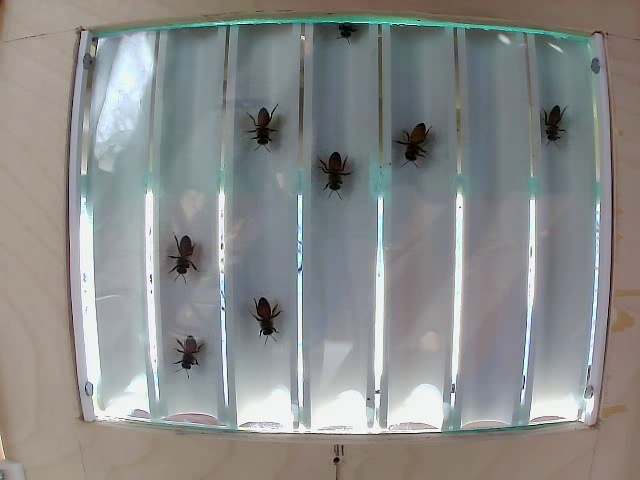bee: (239, 290, 287, 349), (395, 119, 440, 180), (533, 96, 580, 149), (241, 99, 289, 150), (318, 150, 360, 204), (164, 243, 211, 287), (164, 341, 207, 382), (344, 15, 374, 51)
